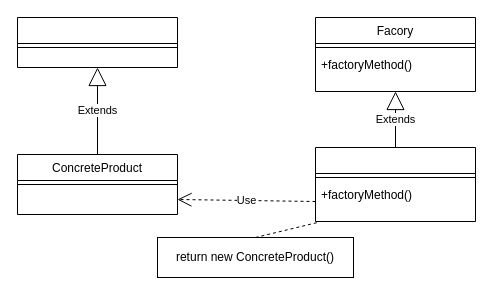
The diagram is 493 pixels wide and 295 high, and some of its shapes have lost their labels. The shapes that lost their labels are listed below. From the top down, each one's box as (x1, y1, x2, y2) in pixels, then its label:
(16, 16, 178, 68): Product
(314, 146, 476, 222): ConcreteFactory
